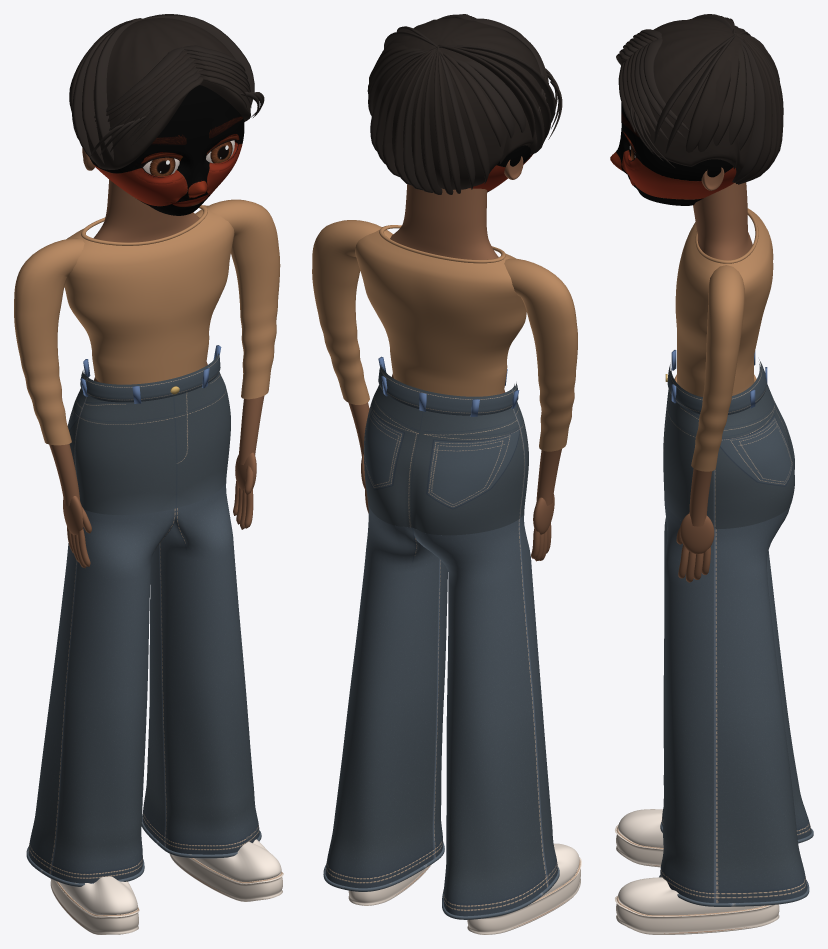
The model's file is jules-before.glb.
3 renders of one model, left to right at view 1: azimuth 30°, elevation 25°; view 2: azimuth 150°, elevation 25°; view 3: azimuth 270°, elevation 25°, orthographic.
Parts seen in each view (by area): view 1: Jules, Maya hair, Maya face; view 2: Jules, Maya hair, Maya face; view 3: Jules, Maya hair, Maya face.
Part boxes in pixels (x1,y1,x2,y2): Jules: [14, 135, 283, 934]; Maya hair: [69, 14, 264, 169]; Maya face: [90, 85, 244, 215]; Jules: [312, 156, 581, 934]; Maya hair: [367, 14, 562, 194]; Maya face: [469, 145, 532, 192]; Jules: [615, 131, 813, 934]; Maya hair: [616, 14, 783, 184]; Maya face: [610, 102, 736, 205].
Size of the model in its own units: 0.5263 by 1.65 by 0.3546.
Materials: 47 (16 with a texture image).
